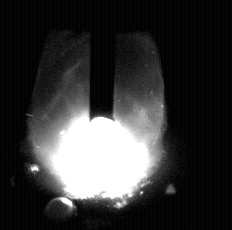arame: (90, 0, 116, 123)
poca: (29, 0, 164, 230)
